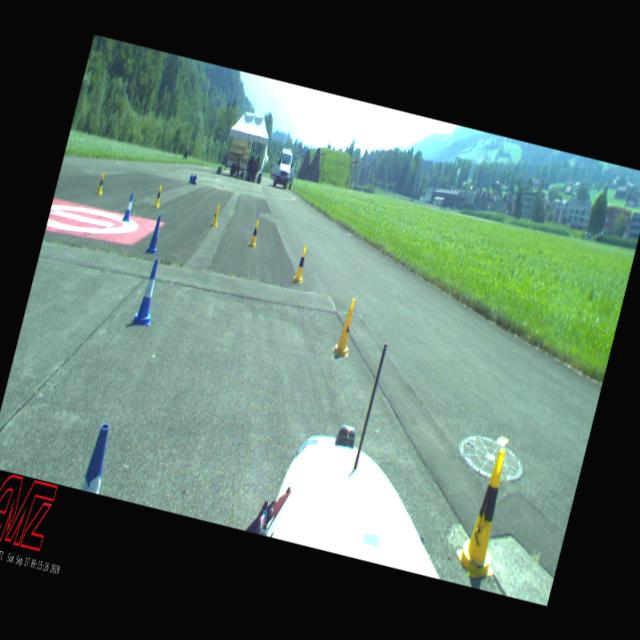blue_cone: (130, 257, 164, 327), (145, 214, 165, 254), (122, 192, 136, 222)
yellow_cone: (451, 444, 522, 580), (331, 296, 361, 358), (292, 244, 310, 284), (248, 219, 262, 248), (152, 184, 164, 208), (210, 203, 222, 227), (95, 172, 106, 196)
